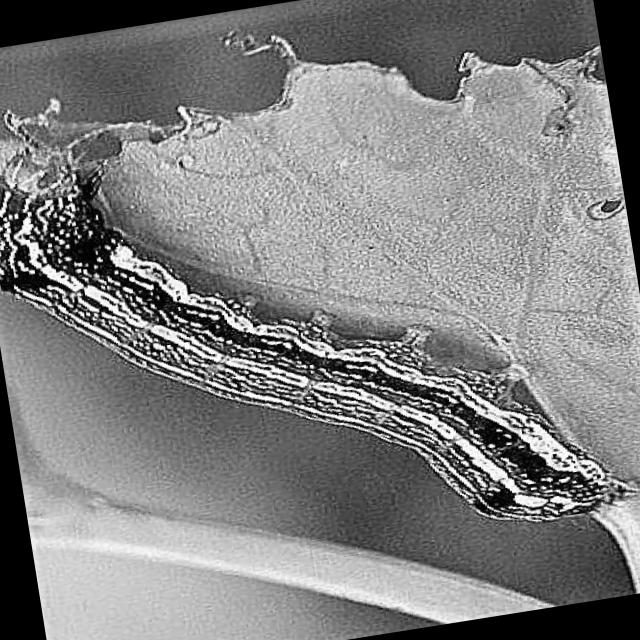Armyworm: (1, 62, 640, 613)
